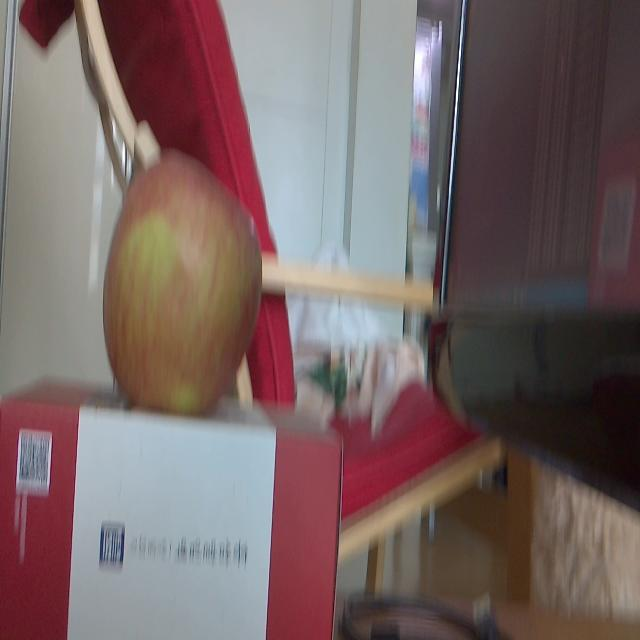apple: (104, 152, 260, 420)
